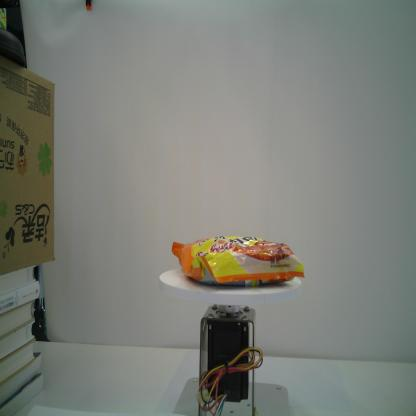Instant Noodles: (170, 234, 306, 289)
